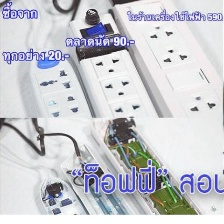three_eye_plug: (103, 0, 223, 118), (89, 116, 207, 224), (61, 4, 162, 118), (57, 139, 146, 224), (25, 42, 94, 119), (38, 172, 87, 224)
